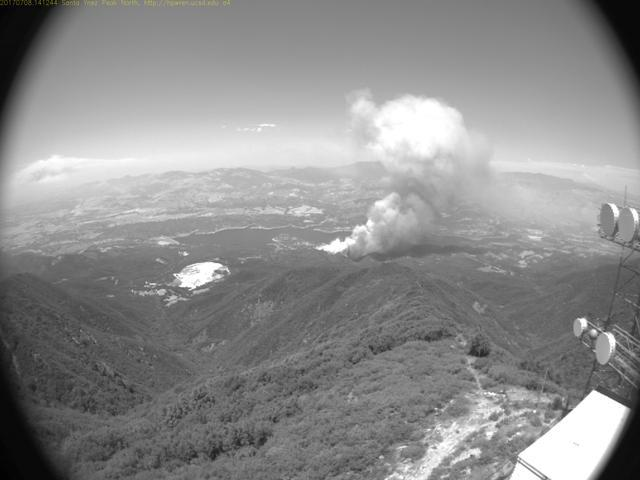smoke: (315, 83, 499, 262)
